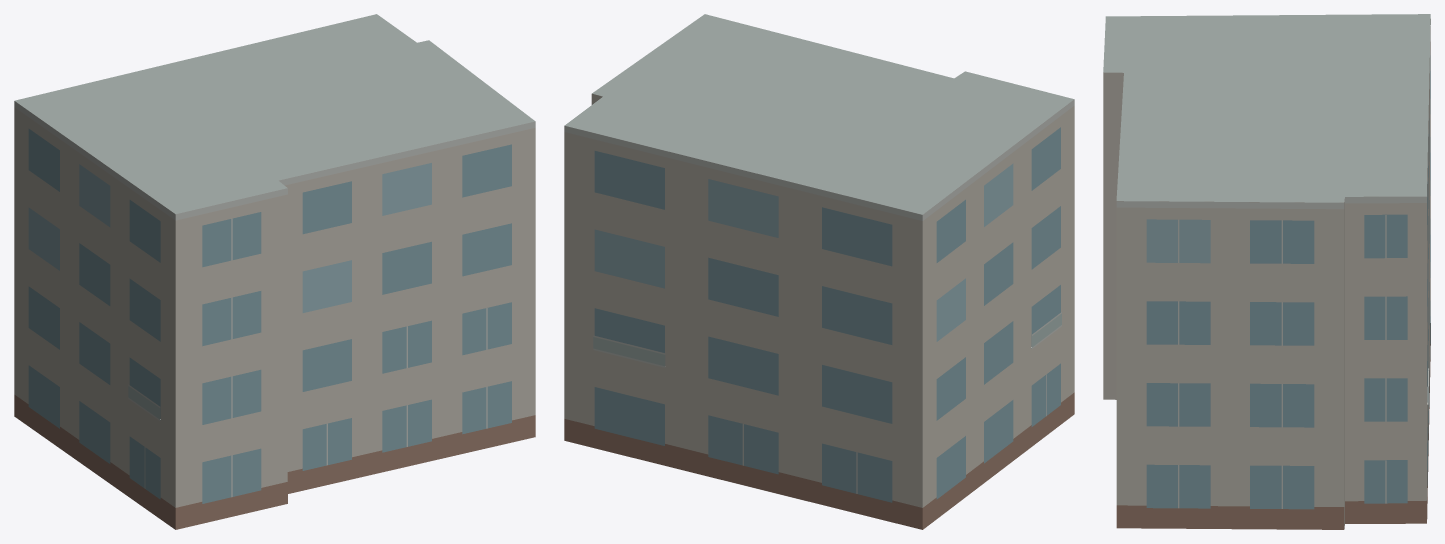
Rendered from survey-upis-32812480.glb.
The picture shows the model from 3 angles, left to right: view 1: azimuth 30°, elevation 25°; view 2: azimuth 150°, elevation 25°; view 3: azimuth 270°, elevation 25°; orthographic projection. The views are drawn at different scales.
Visible parts, largest first — view 1: survey-upis-32812480.tmp; view 2: survey-upis-32812480.tmp; view 3: survey-upis-32812480.tmp.
Part boxes in pixels (bbox=[...]): survey-upis-32812480.tmp: bbox=[14, 14, 535, 529]; survey-upis-32812480.tmp: bbox=[564, 14, 1074, 529]; survey-upis-32812480.tmp: bbox=[1103, 14, 1430, 529].
Size of the model in its own units: 15.11 by 12.2 by 11.08.
